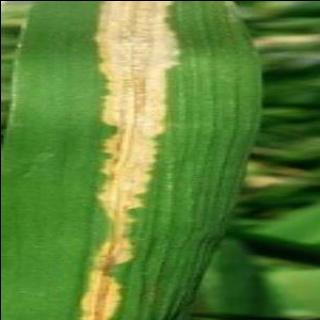Hawar-Daun: (78, 0, 187, 320)
